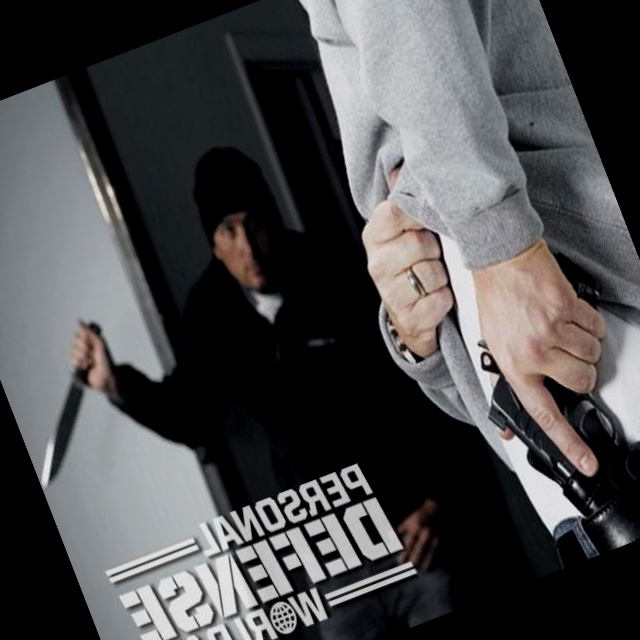gun: (435, 228, 640, 554), (0, 303, 167, 527)
